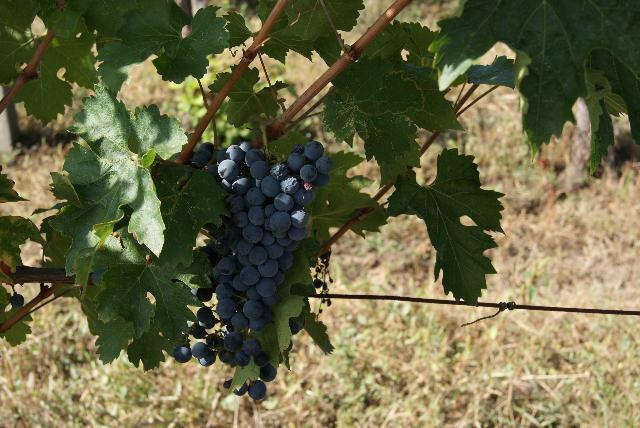grapes: (200, 141, 334, 381)
